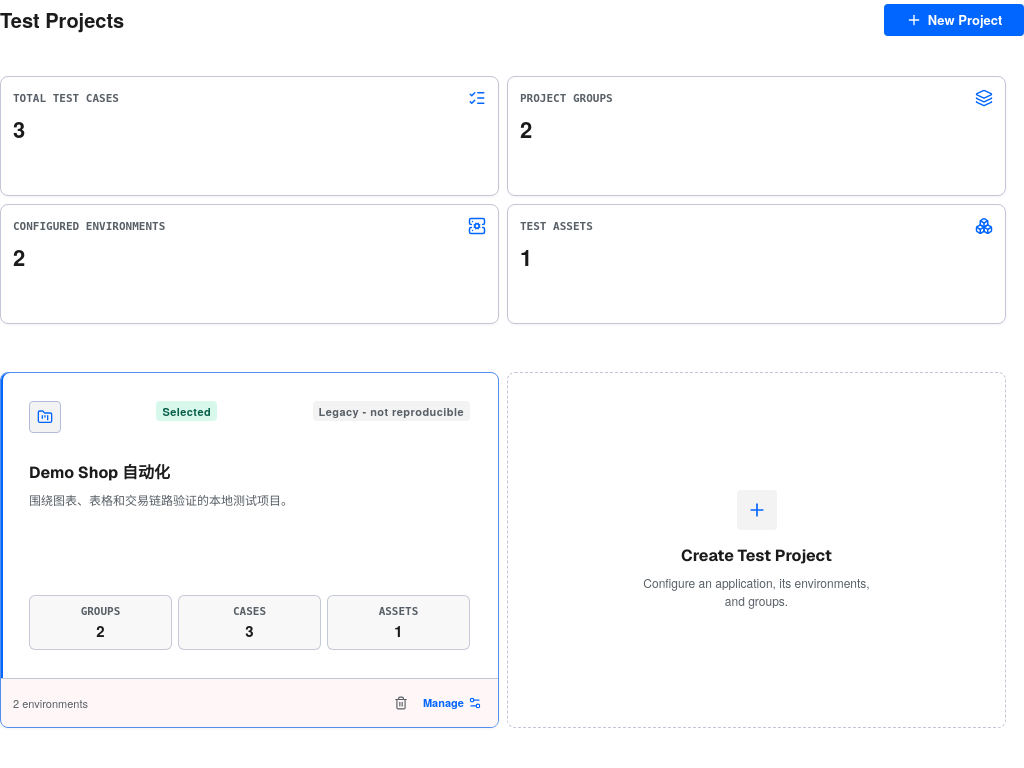
Test case: ProjectManagementPage › organizes project configuration into task-focused sections
Click the button "Manage": (452, 703) left=419, top=691, right=486, bottom=715
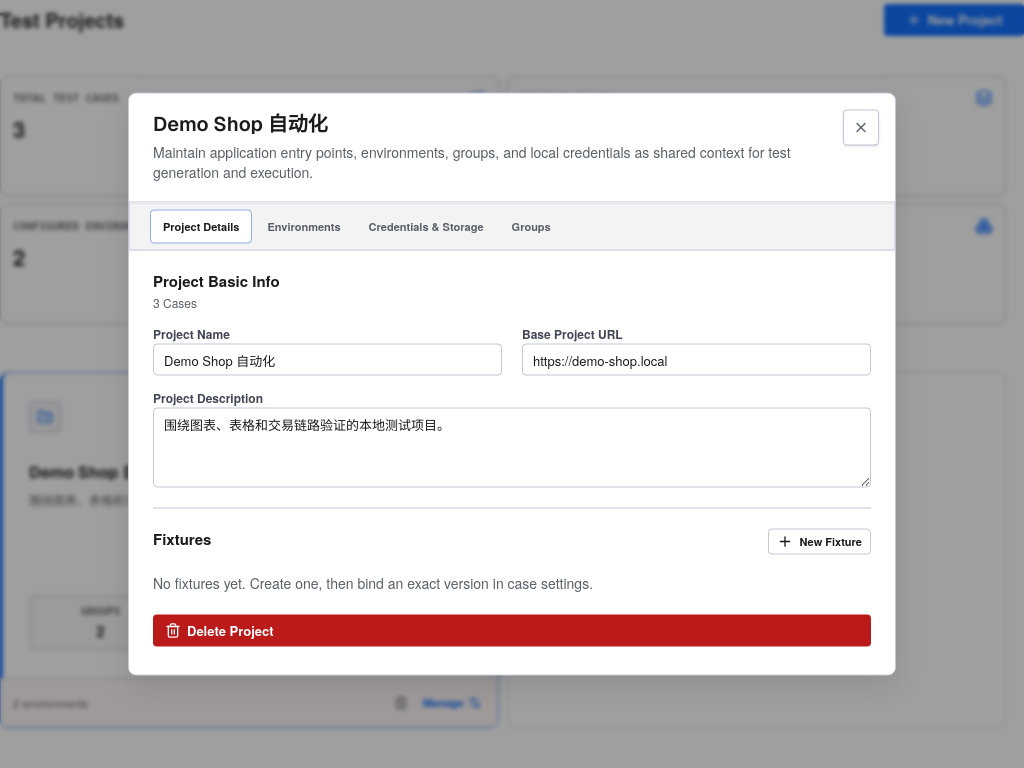
Now the panel shows "Project Basic Info", box left=153, top=270, right=280, bottom=292
Press the mouse on the tab "Environments": (304, 226) left=254, top=210, right=354, bottom=244
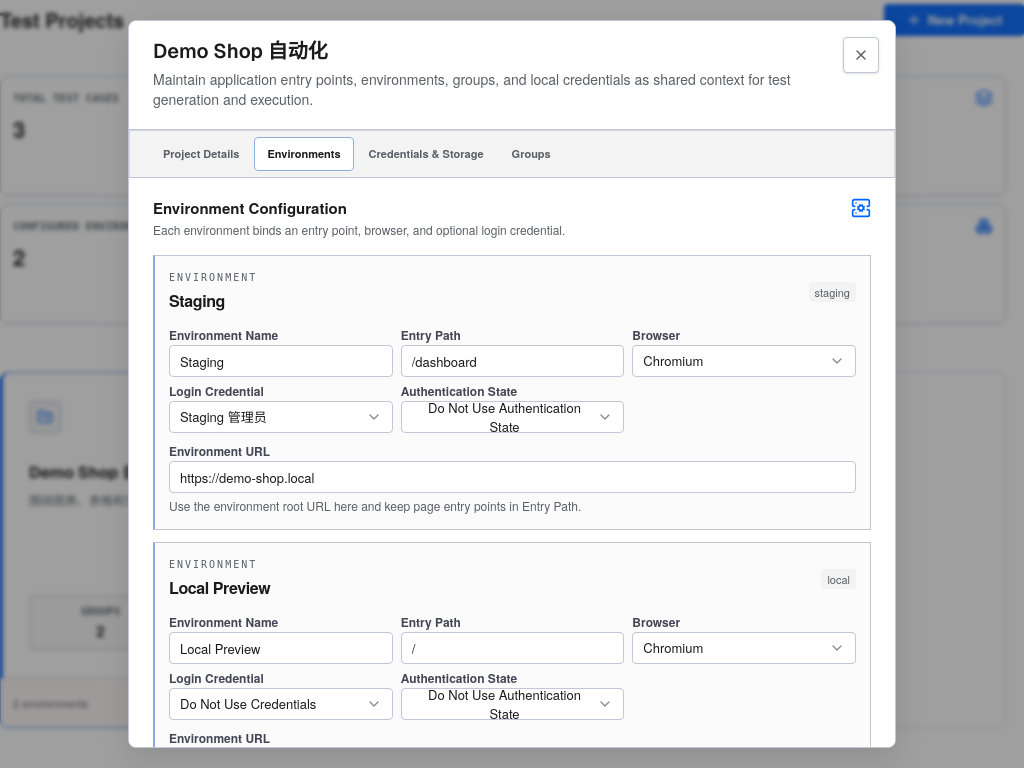
Now the panel shows "Environment Configuration", box left=153, top=197, right=347, bottom=219
Press the mouse on the tab "Credentials & Storage": (426, 154) left=356, top=137, right=497, bottom=171
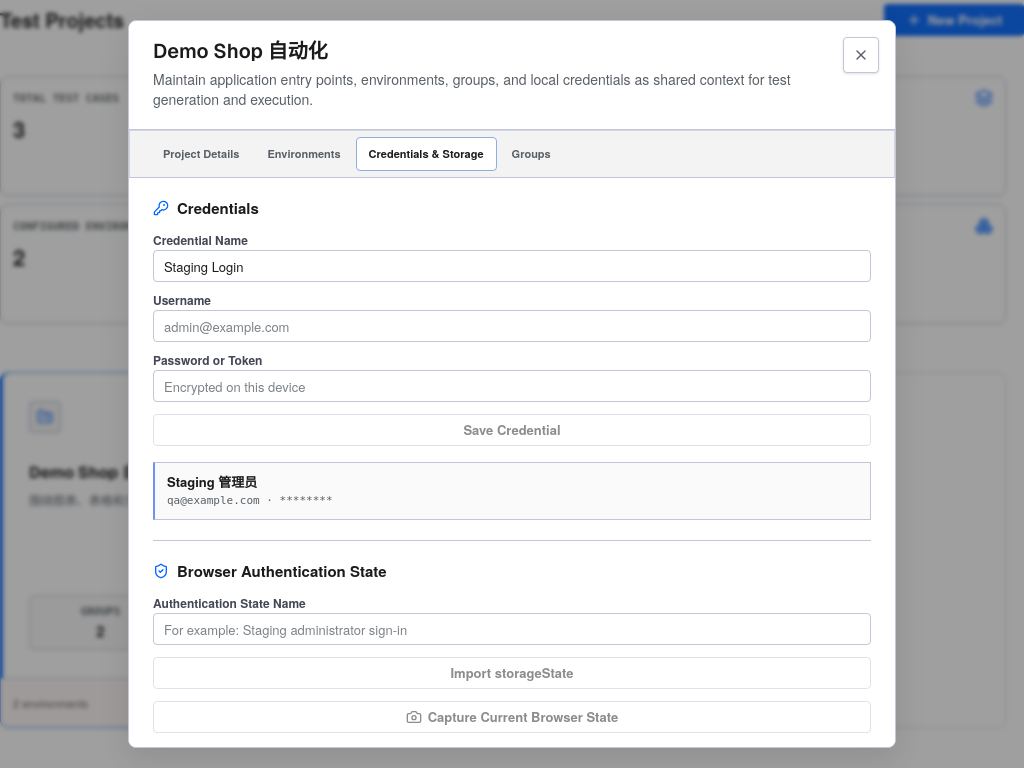
Now the panel shows "Browser Authentication State", box left=177, top=560, right=387, bottom=582
Press the mouse on the tab "Groups": (531, 154) left=499, top=137, right=564, bottom=171
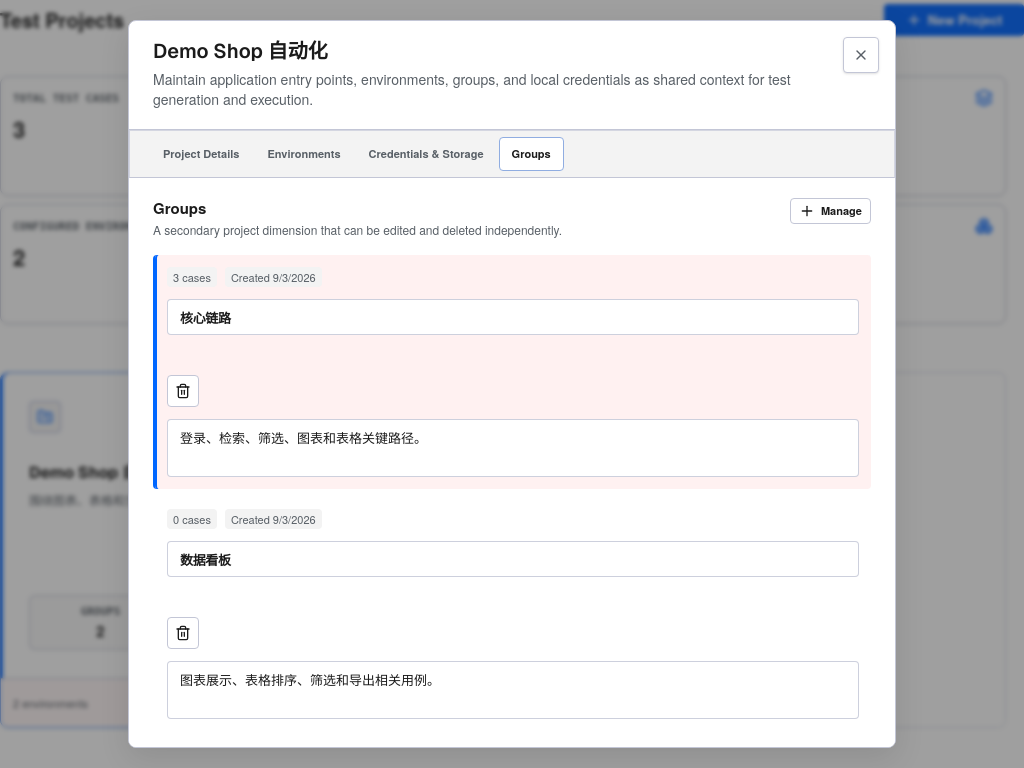
Now the panel shows "Groups", box left=153, top=197, right=206, bottom=219
